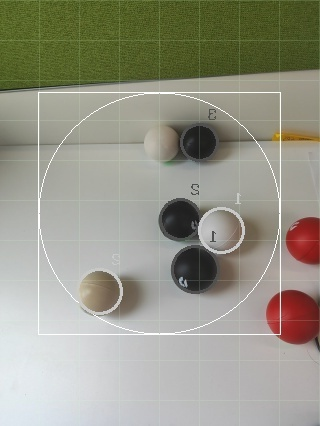Pelota blanca: (197, 206, 246, 254), (77, 268, 124, 315), (143, 124, 183, 163)
Pelota negra: (170, 244, 220, 296), (157, 196, 201, 240), (181, 124, 220, 160)
Pelota roja: (266, 289, 320, 344), (284, 214, 320, 264)
